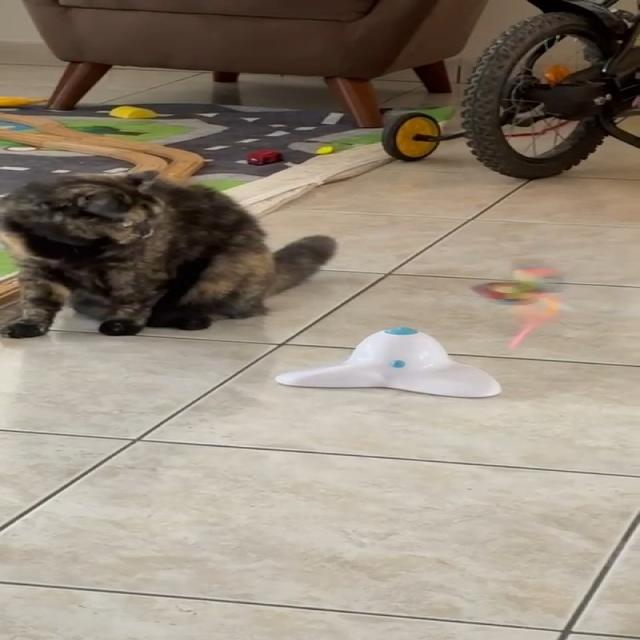authorized: (0, 169, 336, 338)
